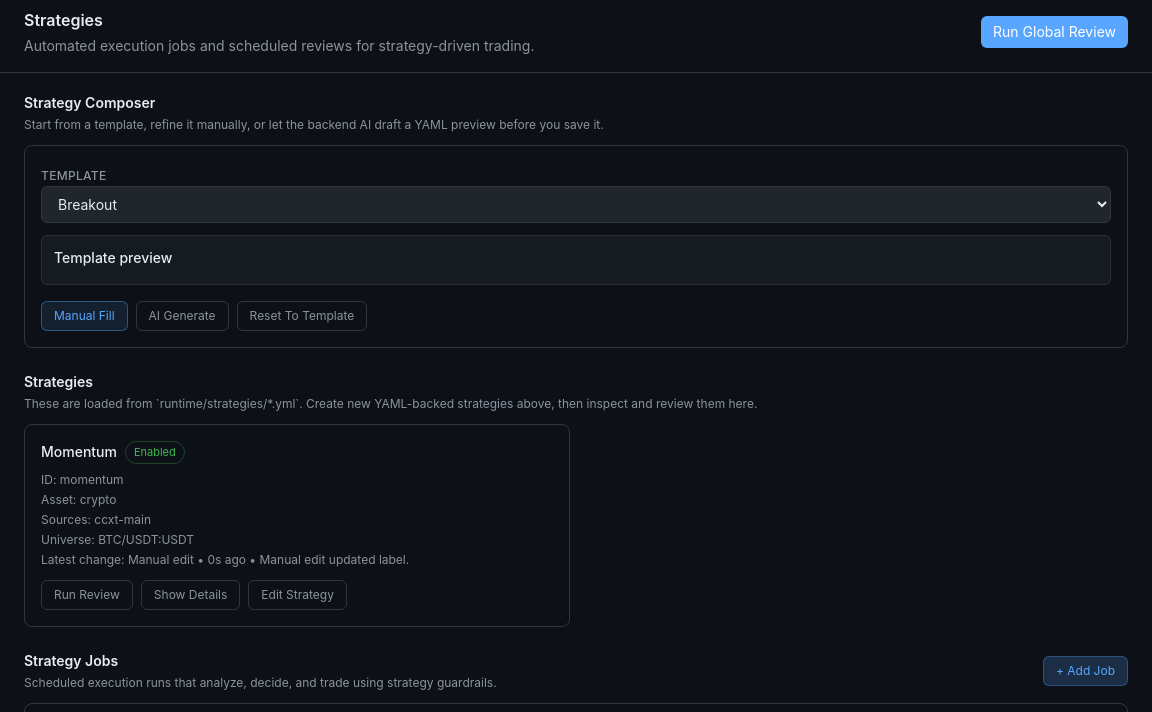
Test: StrategiesPage › loads and shows strategy details when expanded
Click the button "Show Details" at {"x": 191, "y": 594}, box [141,580,240,610]
(page scrolled)
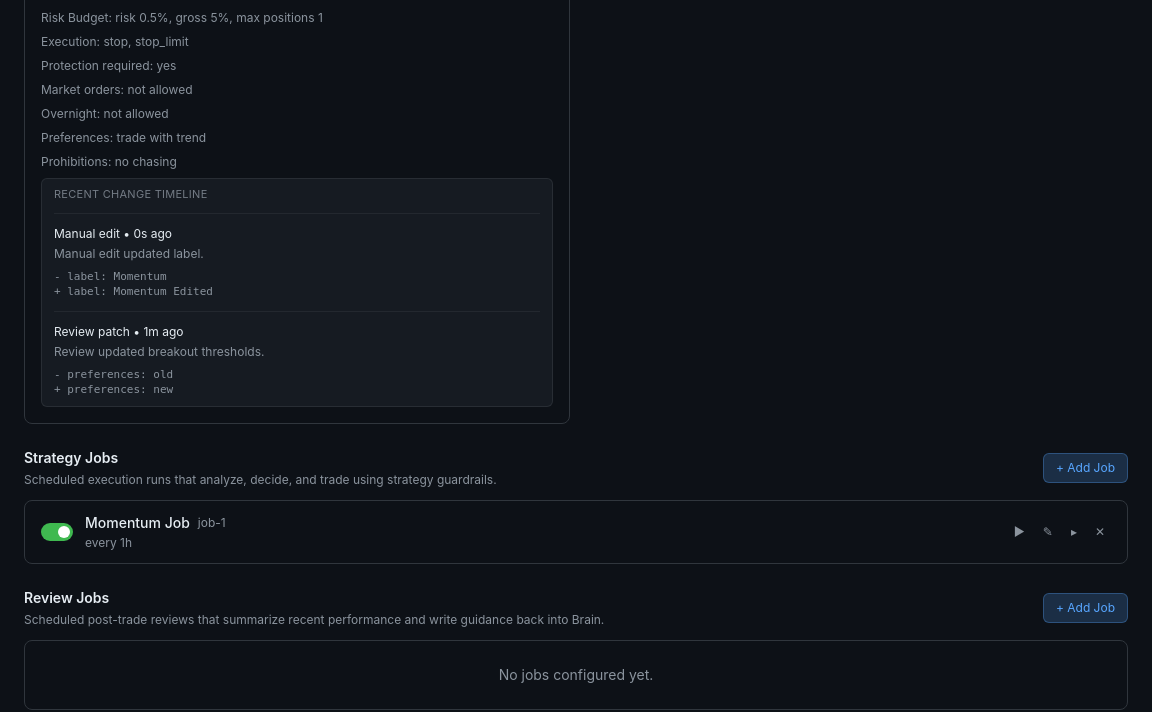
Expected: the text "Protection required: yes" is shown, [41,58,176,72]
Expected: the text "Recent Change Timeline" is shown, [54,186,208,200]
Expected: the text "Review updated breakout thresholds." is shown, [54,344,264,360]
